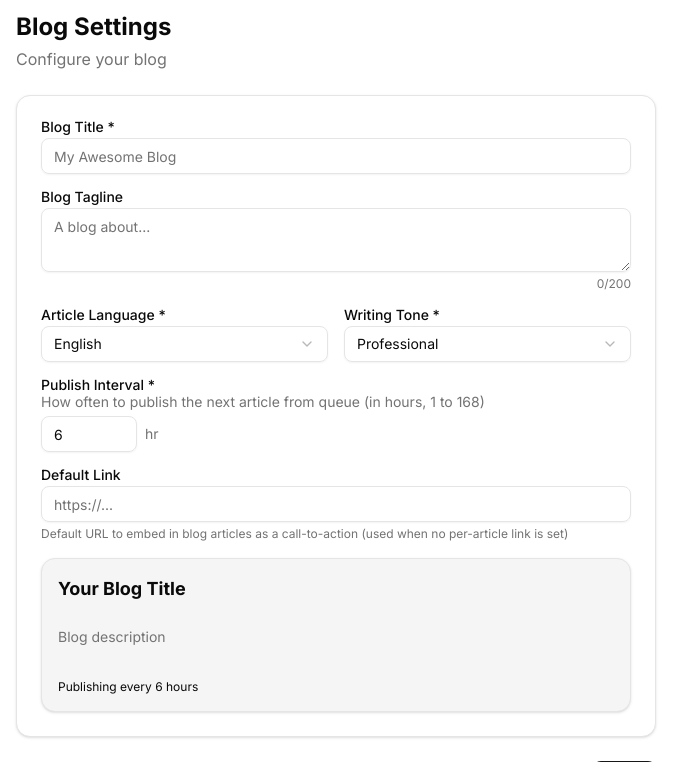
Blog › clamps cleared input to 1 on blur
Clear the number field labelled "Publish Interval *" at (89, 434), box [41, 416, 137, 452]
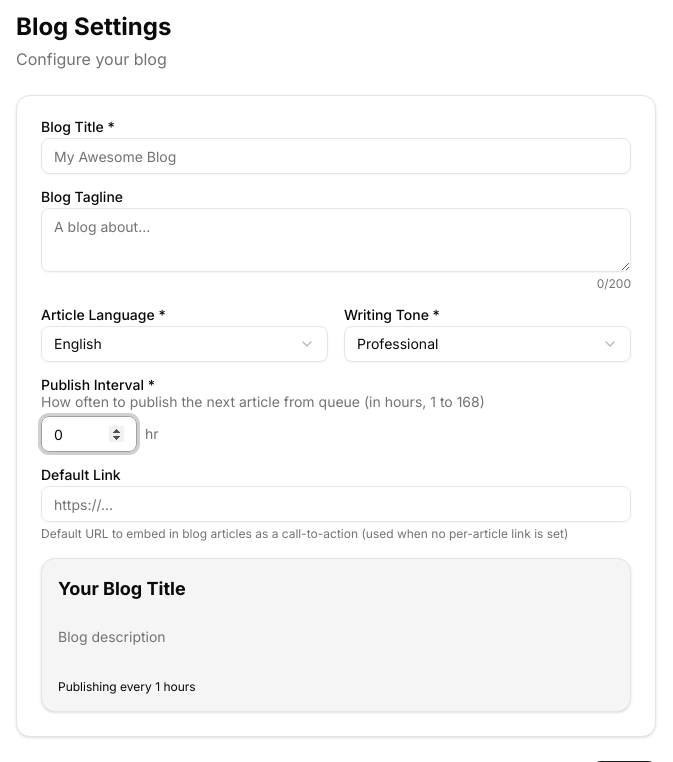
Press Tab
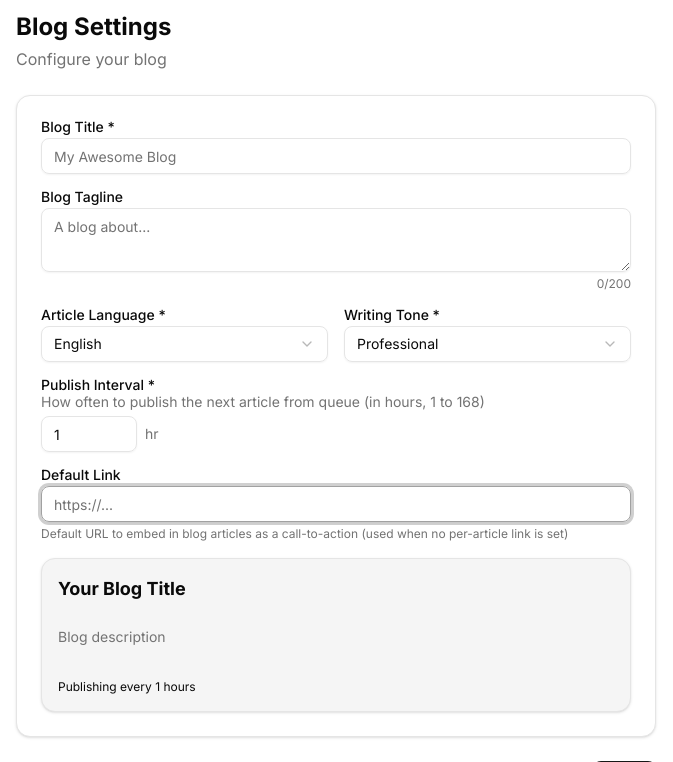
Expected: the number field labelled "Publish Interval *" holds "1", [41, 416, 137, 452]
